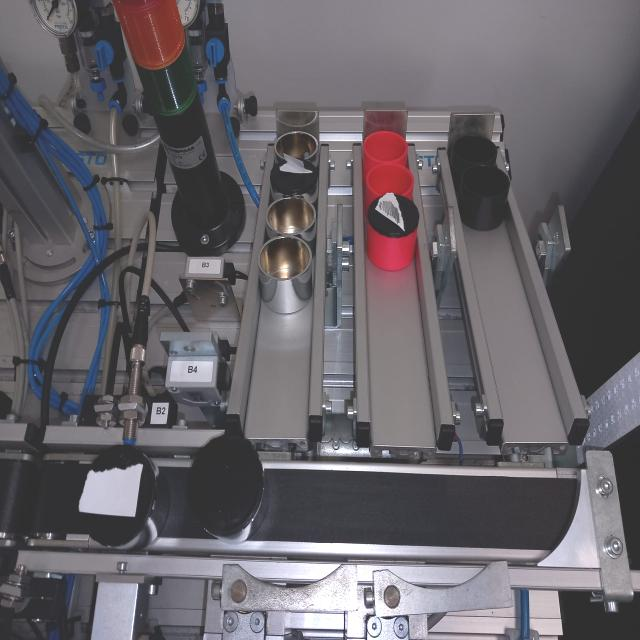NoLid: (253, 234, 314, 316), (460, 164, 508, 227), (268, 190, 320, 242), (364, 165, 420, 196), (362, 132, 410, 166), (450, 139, 495, 175), (274, 126, 320, 159)
Workpiece: (197, 431, 270, 547)
